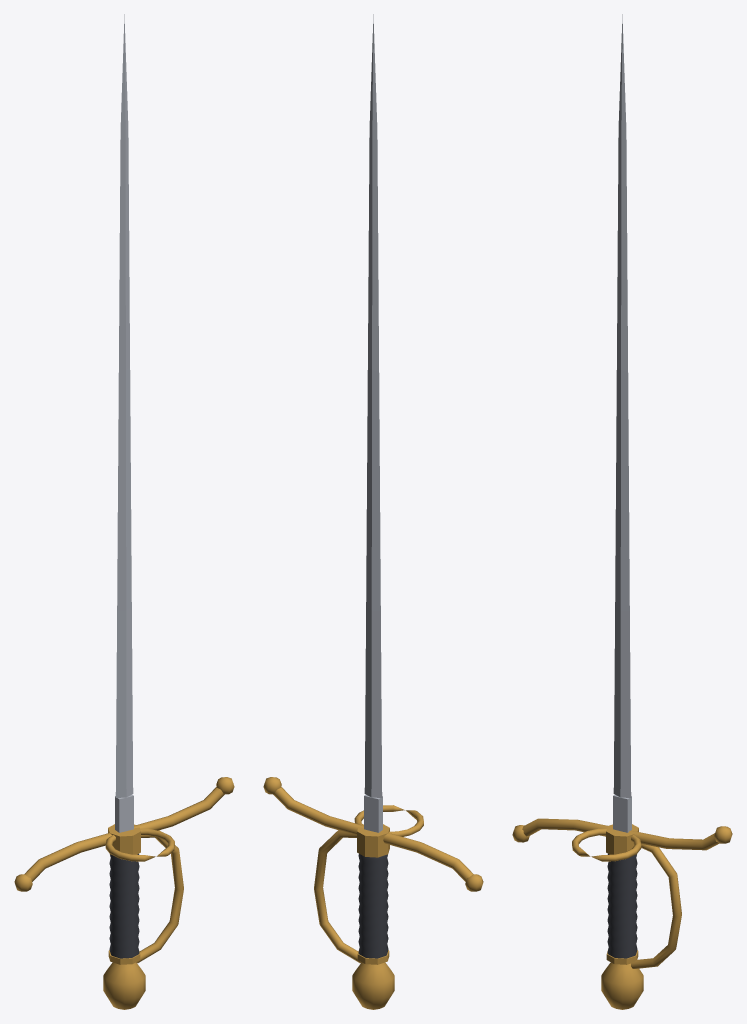
Rendered from rapier.glb.
3 renders of one model, left to right at view 1: azimuth 30°, elevation 25°; view 2: azimuth 150°, elevation 25°; view 3: azimuth 330°, elevation 25°, orthographic.
Parts seen in each view (by area): view 1: Rapier_Blade, Rapier_Hilt, Rapier_Grip, Rapier_Pommel; view 2: Rapier_Blade, Rapier_Hilt, Rapier_Grip, Rapier_Pommel; view 3: Rapier_Blade, Rapier_Hilt, Rapier_Grip, Rapier_Pommel.
Part boxes in pixels (box(x1,y1,x2,y2)): Rapier_Blade: box(115, 14, 133, 832); Rapier_Hilt: box(14, 777, 234, 964); Rapier_Grip: box(109, 854, 139, 958); Rapier_Pommel: box(103, 962, 145, 1009); Rapier_Blade: box(364, 14, 382, 832); Rapier_Hilt: box(263, 777, 483, 964); Rapier_Grip: box(358, 854, 388, 958); Rapier_Pommel: box(352, 962, 394, 1009); Rapier_Blade: box(613, 14, 631, 832); Rapier_Hilt: box(512, 818, 732, 968); Rapier_Grip: box(607, 854, 637, 958); Rapier_Pommel: box(601, 962, 643, 1009).
Bounding box in the file's own units: 0.238 × 1.04 × 0.0805.
